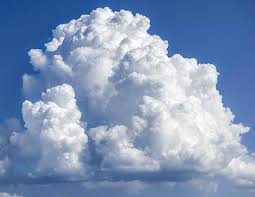Cumulus: (13, 6, 250, 137), (88, 95, 251, 186), (11, 79, 92, 184)
